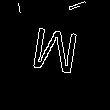M_S: (28, 27, 82, 83)
